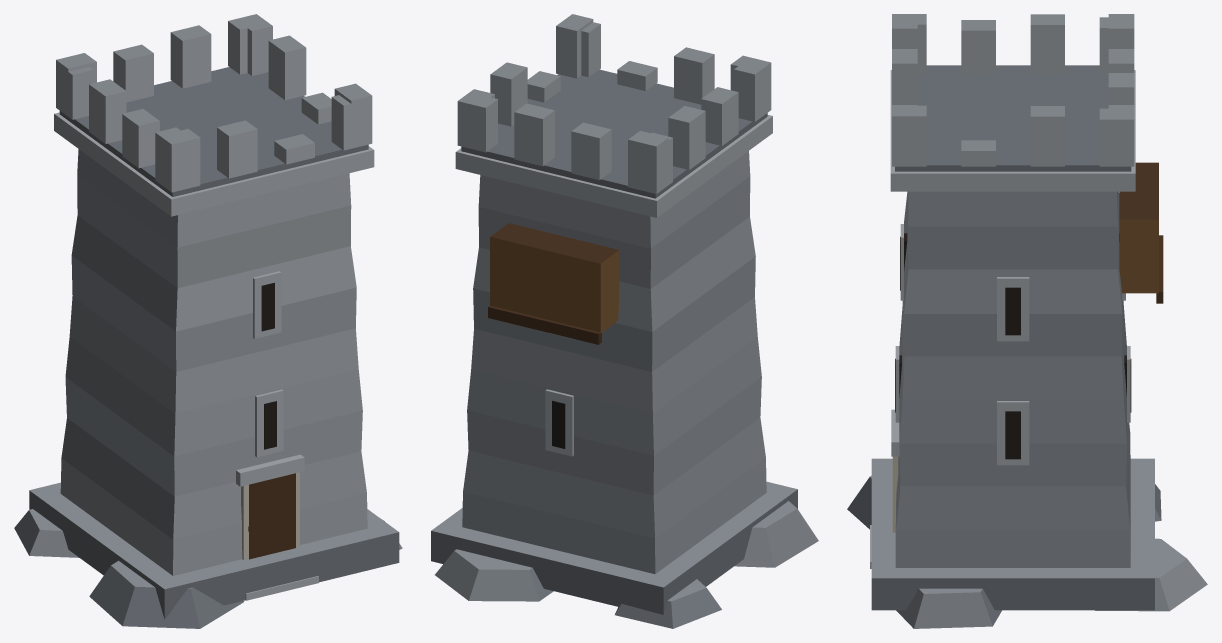
The model's file is watchtower.glb.
3 renders of one model, left to right at view 1: azimuth 30°, elevation 25°; view 2: azimuth 150°, elevation 25°; view 3: azimuth 270°, elevation 25°, orthographic. The views are drawn at different scales.
Parts seen in each view (by area): view 1: watchtower; view 2: watchtower; view 3: watchtower.
Part boxes in pixels (x1,y1,x2,y2): watchtower: (14,14,402,628); watchtower: (431,14,818,628); watchtower: (847,14,1207,628).
Size of the model in its own units: 4.95 by 7.66 by 5.1.
